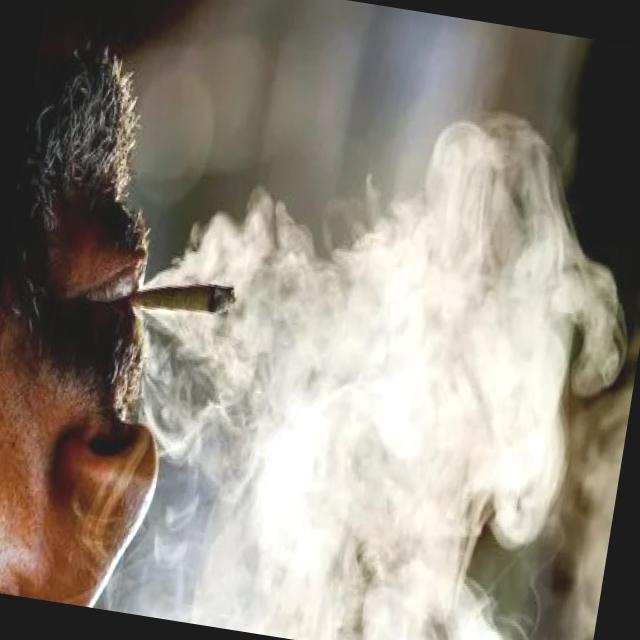smoke: (127, 268, 240, 324)
